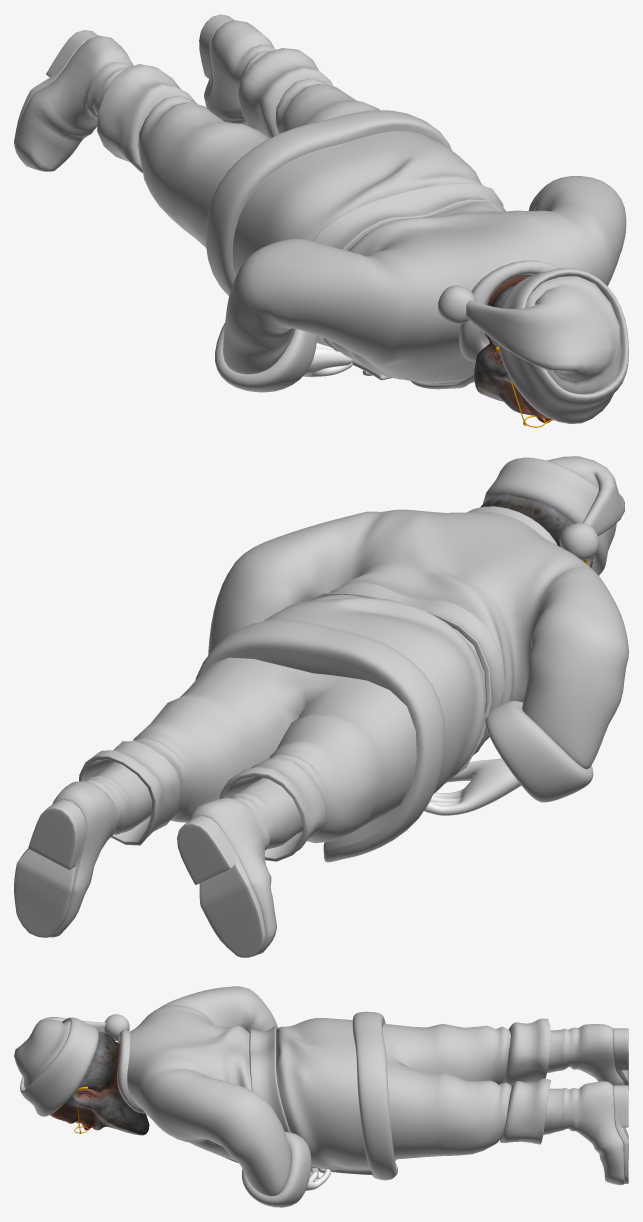
The model's file is Santa.obj.
The picture shows the model from 3 angles, top to bottom: view 1: azimuth 30°, elevation 25°; view 2: azimuth 150°, elevation 25°; view 3: azimuth 270°, elevation 25°; orthographic projection. The views are drawn at different scales.
Parts seen in each view (by area): view 1: 12165_Santa_Claus_Body, 12165_Santa_Claus_Head, 12165_Santa_Claus_Gloves; view 2: 12165_Santa_Claus_Body, 12165_Santa_Claus_Gloves, 12165_Santa_Claus_Head; view 3: 12165_Santa_Claus_Body, 12165_Santa_Claus_Head.
Boxes of the visible parts, left/top/right/bottom form: 12165_Santa_Claus_Body: left=14, top=14, right=628, bottom=424; 12165_Santa_Claus_Head: left=474, top=276, right=551, bottom=422; 12165_Santa_Claus_Gloves: left=303, top=347, right=352, bottom=377; 12165_Santa_Claus_Body: left=14, top=456, right=628, bottom=957; 12165_Santa_Claus_Gloves: left=424, top=758, right=520, bottom=815; 12165_Santa_Claus_Head: left=480, top=494, right=593, bottom=567; 12165_Santa_Claus_Body: left=14, top=986, right=628, bottom=1207; 12165_Santa_Claus_Head: left=50, top=1032, right=149, bottom=1135.
Size of the model in its own units: 89.75 by 49.25 by 182.
